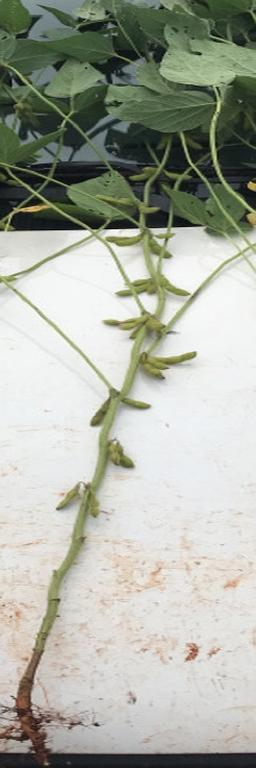pod: (55, 486, 84, 510), (88, 400, 111, 427), (148, 235, 171, 260), (155, 351, 198, 364), (94, 194, 138, 206), (121, 397, 151, 410), (164, 284, 190, 297), (137, 203, 163, 216), (163, 170, 191, 182), (143, 366, 163, 381), (122, 449, 135, 471), (87, 495, 98, 519), (110, 445, 120, 467), (152, 230, 175, 238)
soy: (31, 63, 211, 764)
